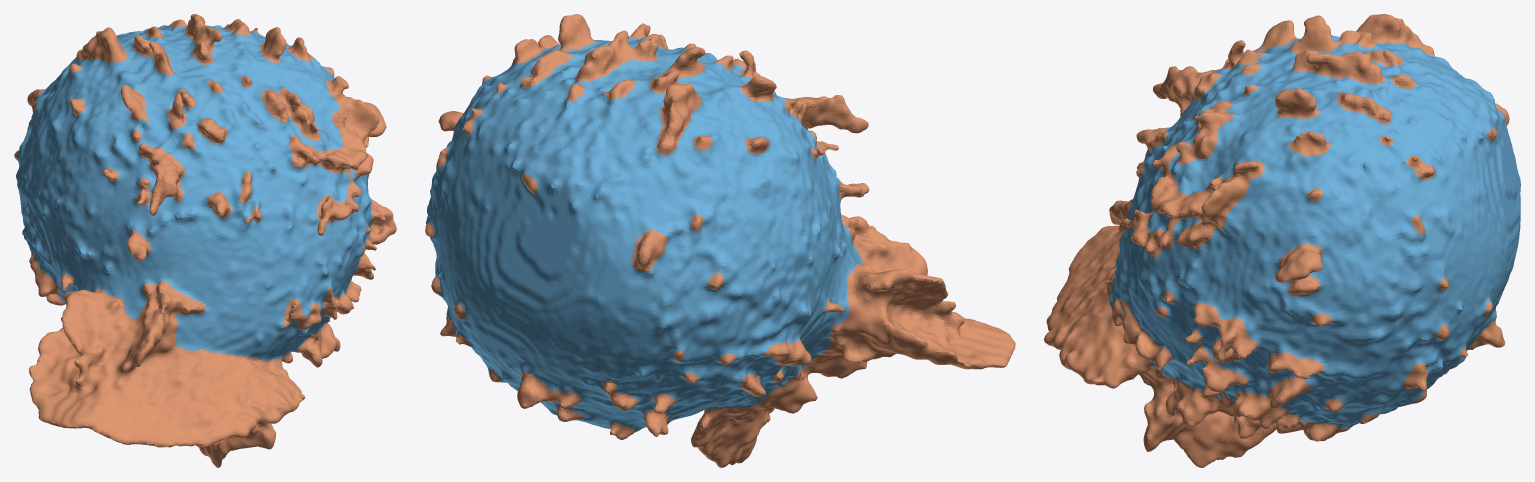
3 renders of one model, left to right at view 1: azimuth 30°, elevation 25°; view 2: azimuth 150°, elevation 25°; view 3: azimuth 270°, elevation 25°, orthographic. The views are drawn at different scales.
Bounding box in the file's own units: 176 × 161 × 156.
